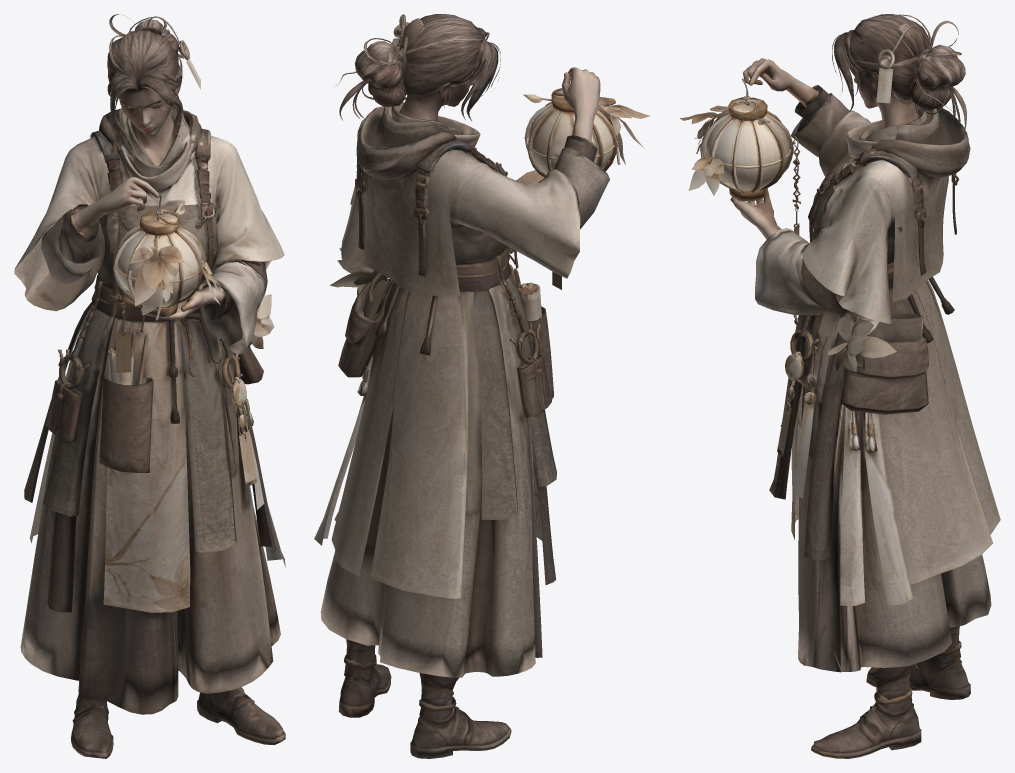
Rendered from dream-mian-lod0.glb.
3 views of the same model, side by side, from view 1: azimuth 30°, elevation 25°; view 2: azimuth 150°, elevation 25°; view 3: azimuth 270°, elevation 25° (orthographic). The views are drawn at different scales.
Parts seen in each view (by area): view 1: dream-mian_SourceMesh; view 2: dream-mian_SourceMesh; view 3: dream-mian_SourceMesh.
Part boxes in pixels (x1=…): dream-mian_SourceMesh: x1=14, y1=14, x2=285, y2=758; dream-mian_SourceMesh: x1=314, y1=14, x2=650, y2=758; dream-mian_SourceMesh: x1=680, y1=14, x2=1000, y2=758.
Bounding box in the file's own units: 0.6385 × 1.68 × 0.7066.
Materials: 1 (1 with a texture image).
